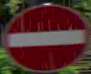No entry: (5, 5, 90, 73)
